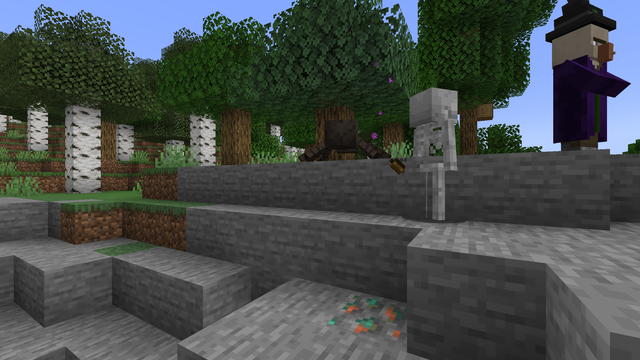araignees: (303, 114, 382, 156)
sorcieres: (548, 13, 615, 153)
squelettes: (409, 85, 453, 221)
